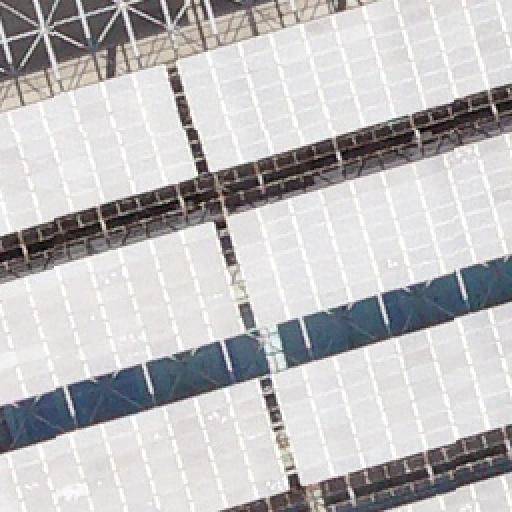solar-panel: (176, 0, 512, 176), (225, 135, 511, 329), (268, 300, 512, 488), (0, 221, 248, 403), (0, 376, 292, 512), (0, 65, 200, 239), (384, 472, 512, 512)
